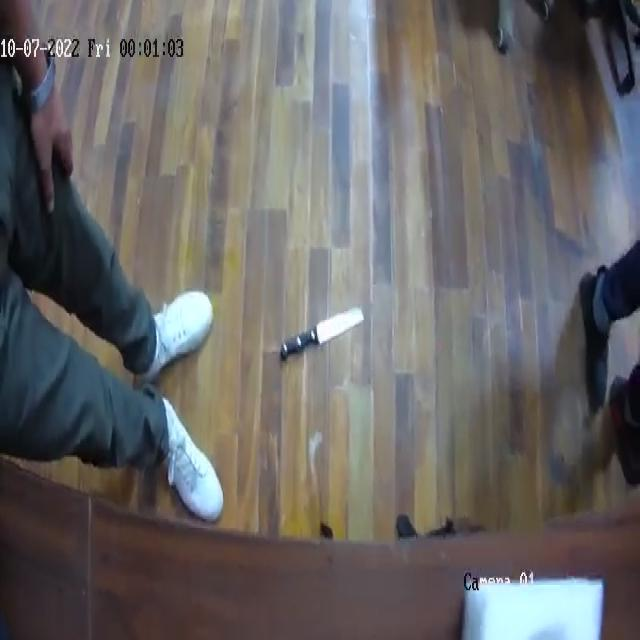Knife: (276, 300, 364, 364)
